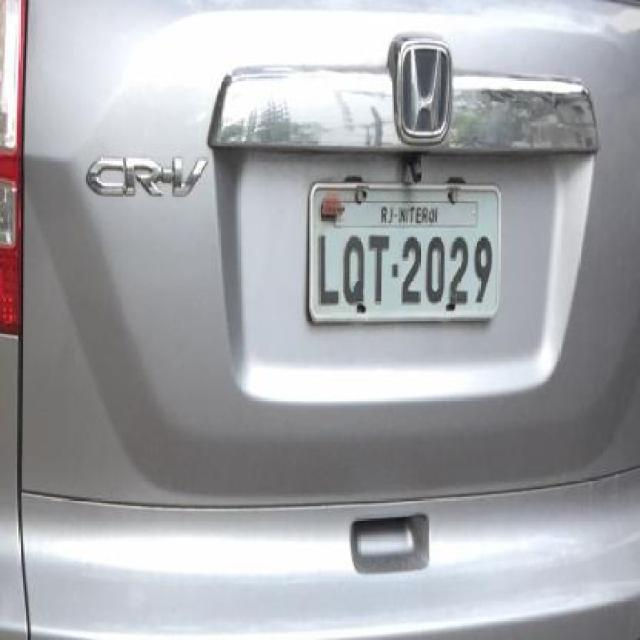old_plate: (301, 175, 505, 334)
